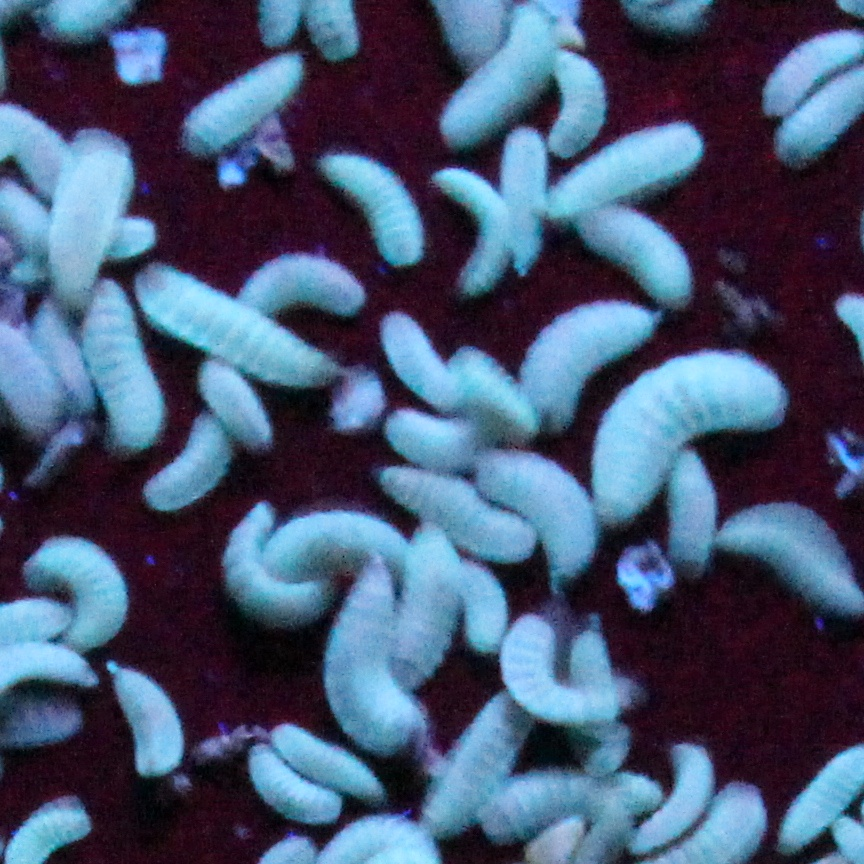larve: (589, 326, 799, 516), (130, 252, 341, 385), (323, 564, 433, 769), (462, 449, 605, 585), (310, 137, 440, 278), (166, 44, 318, 160), (217, 241, 379, 349), (437, 3, 553, 149), (535, 118, 711, 214), (78, 295, 178, 460), (44, 129, 136, 304), (210, 498, 331, 631), (30, 527, 149, 662), (386, 517, 464, 713), (574, 204, 700, 313), (492, 611, 612, 719), (625, 732, 720, 857), (433, 159, 515, 303), (107, 653, 193, 788), (267, 718, 392, 804), (375, 300, 462, 412), (491, 124, 553, 277), (538, 35, 610, 165), (148, 413, 226, 513), (454, 351, 535, 438)
